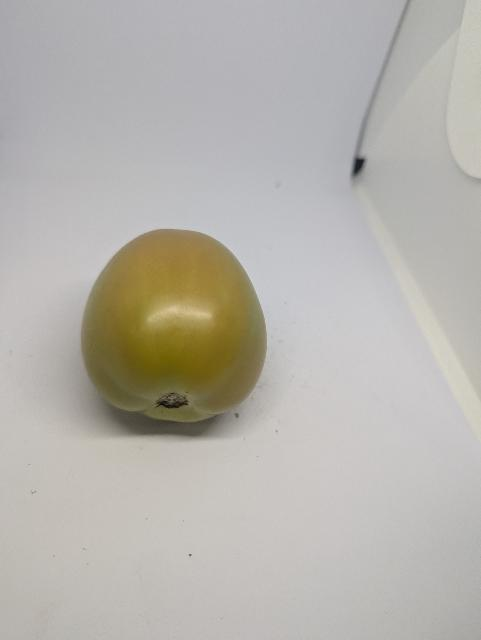breaker: (81, 229, 267, 422)
